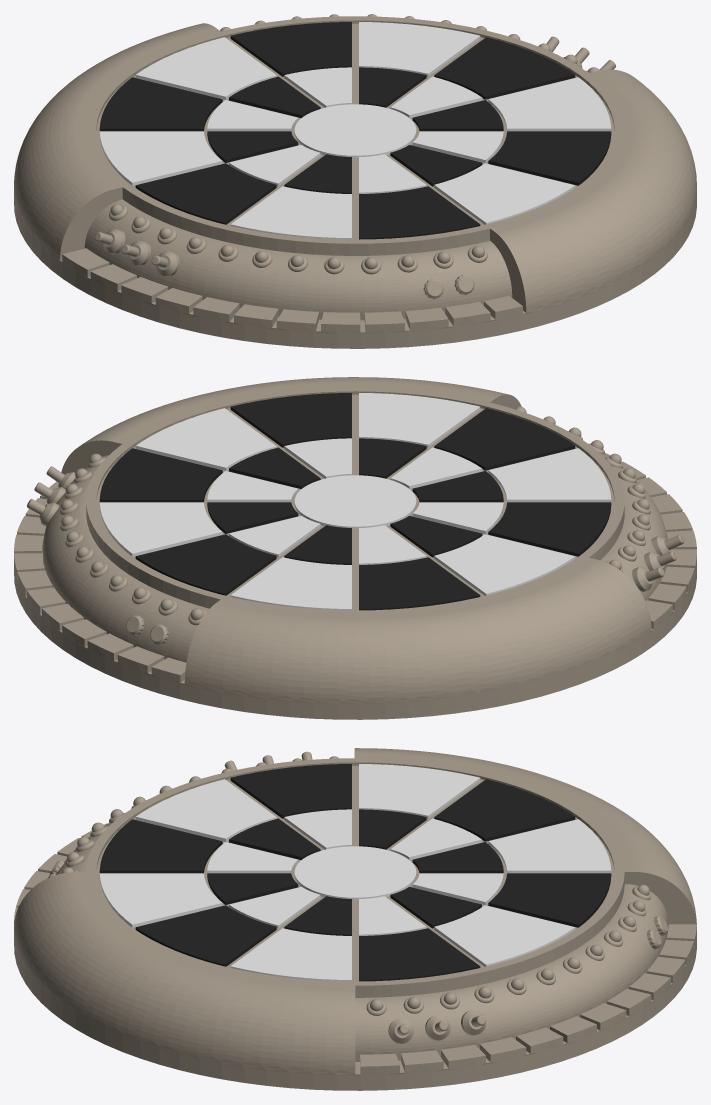
Rendered from table_low.fbx.
3 renders of one model, top to bottom at view 1: azimuth 30°, elevation 25°; view 2: azimuth 150°, elevation 25°; view 3: azimuth 270°, elevation 25°, orthographic.
Visible parts, largest first — view 1: table; view 2: table; view 3: table.
Part boxes in pixels (box(x1,y1,x2,y2)): table: box(14, 14, 696, 348); table: box(14, 377, 696, 719); table: box(14, 748, 696, 1090).
Bounding box in the file's own units: 4064 × 490 × 4064.
